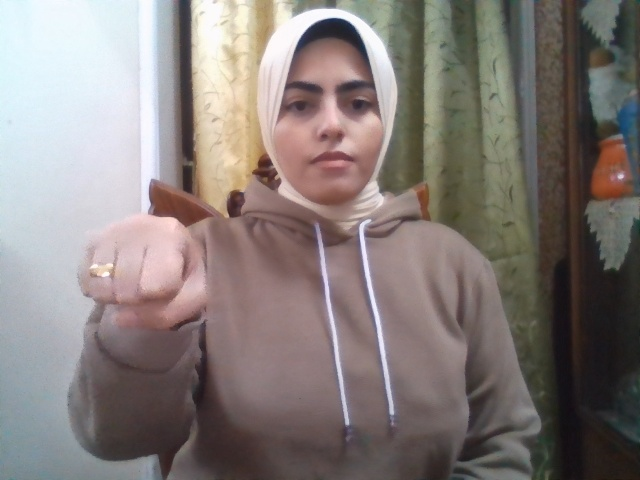yes: (79, 215, 207, 331)
